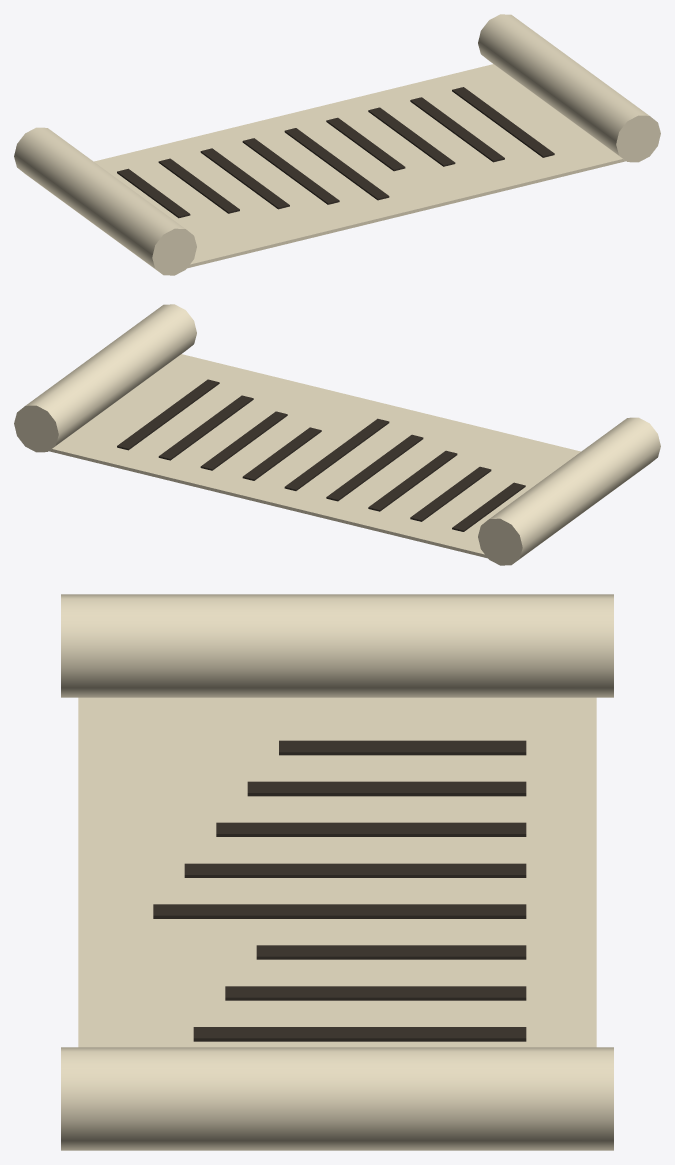
The model's file is scroll-open.glb.
3 views of the same model, one above another, from view 1: azimuth 30°, elevation 25°; view 2: azimuth 150°, elevation 25°; view 3: azimuth 270°, elevation 25° (orthographic). The views are drawn at different scales.
Size of the model in its own units: 0.68 by 0.06 by 0.32.
